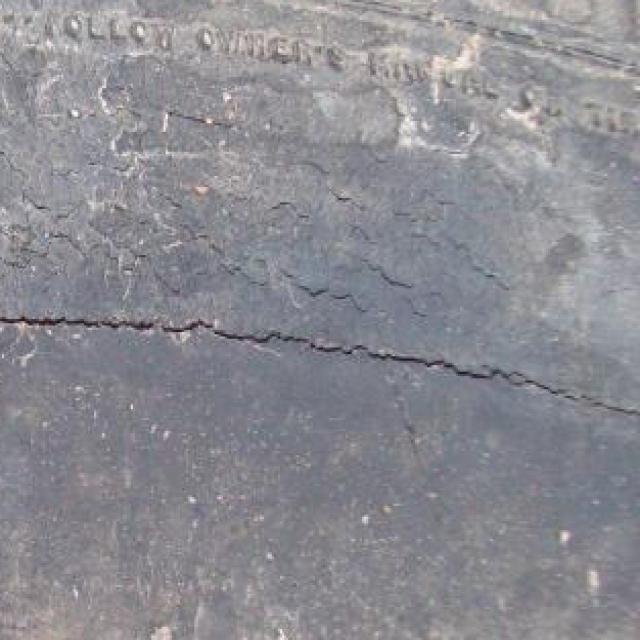Flat spots: (0, 403, 639, 639)
